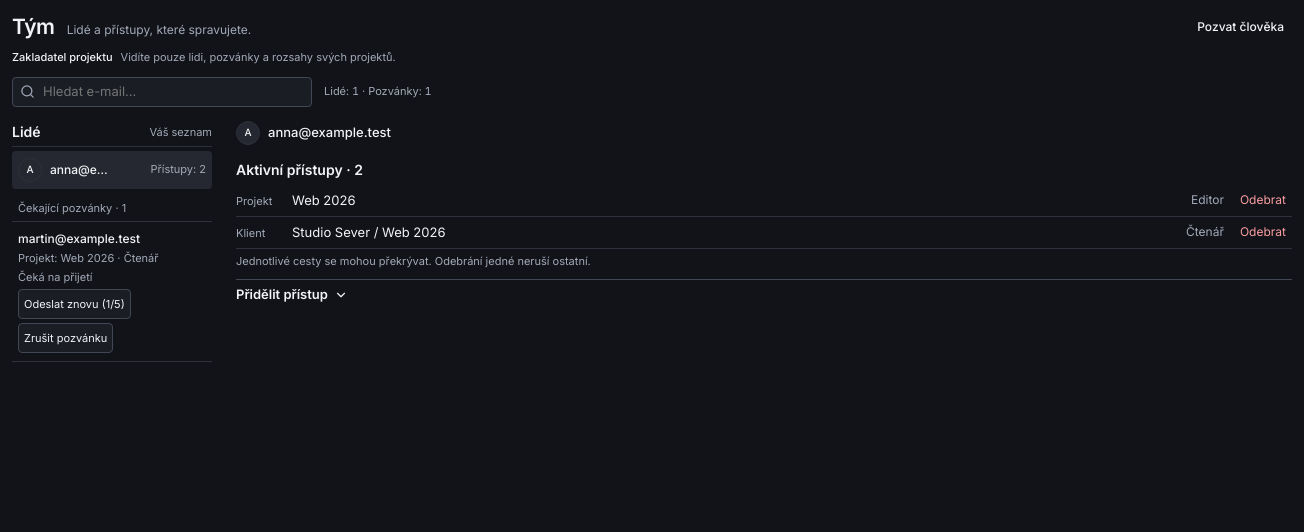
Scenario: approved compact team workspace › posts one exact client batch and common role, then reads confirmed server state
Click the button "Přidělit přístup" at (282, 294), box [236,279,1292,311]
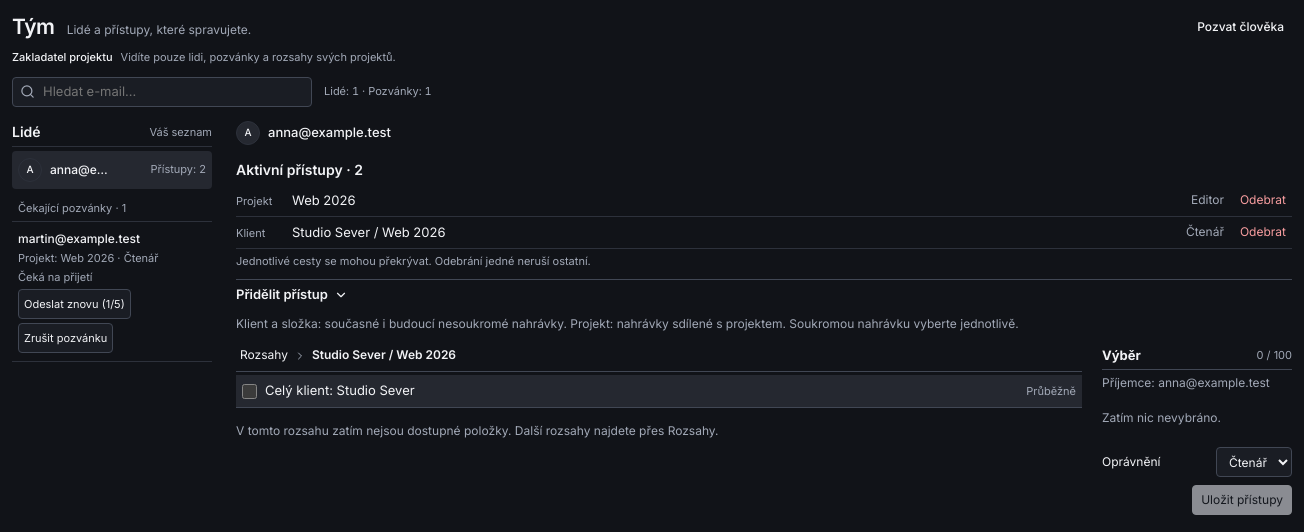
Click the checkbox labelled "Celý klient: Studio Sever" at (250, 391), box [242,384,257,399]
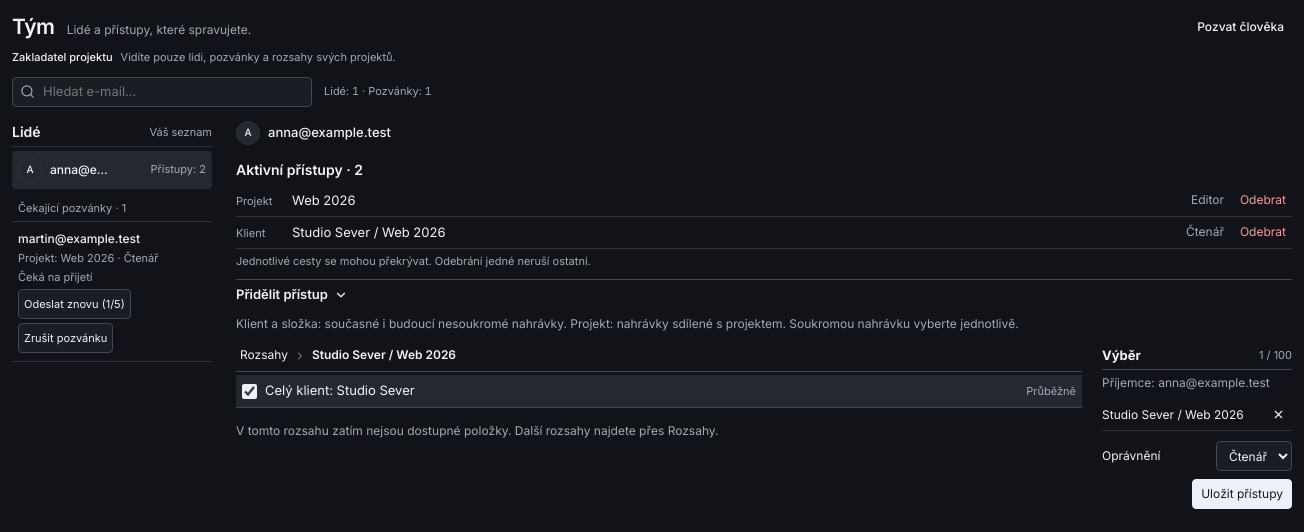
Submit the form named "Přidělit přístup", box [236,315,1292,510]
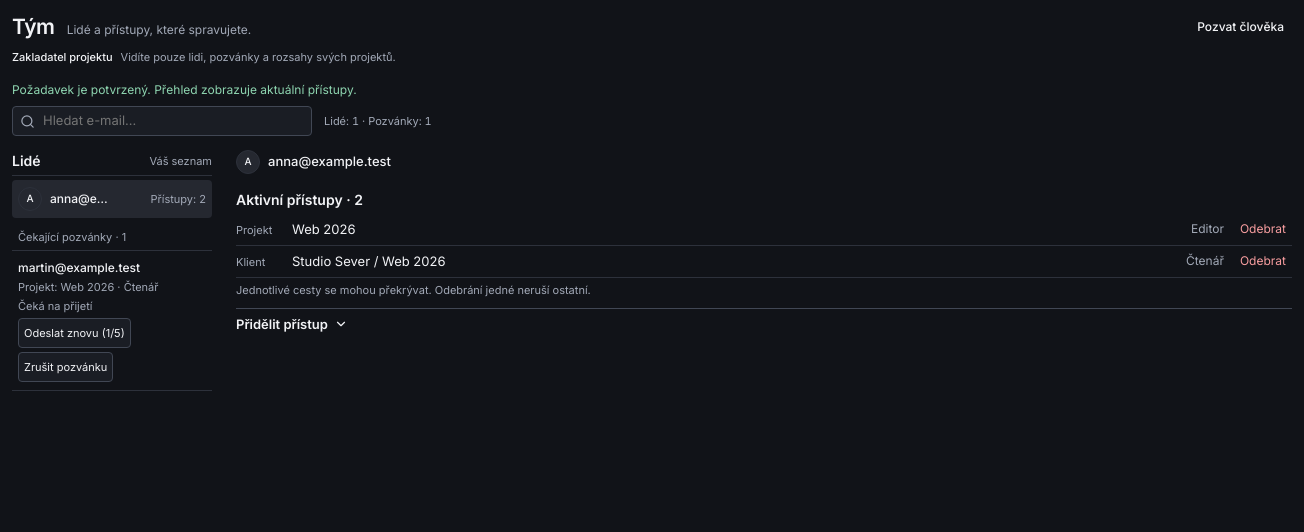
Result: the text "Požadavek je potvrzený." is shown at [12,82,357,97]
